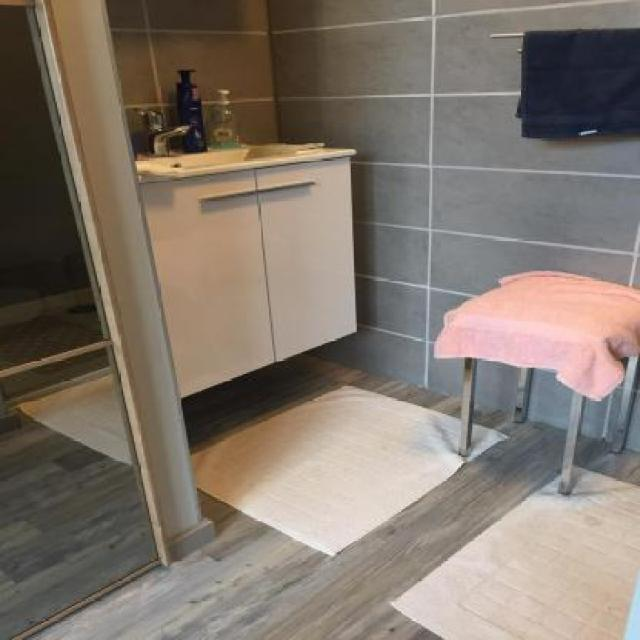Floor: (25, 402, 567, 640), (180, 353, 462, 454), (574, 434, 640, 485)
